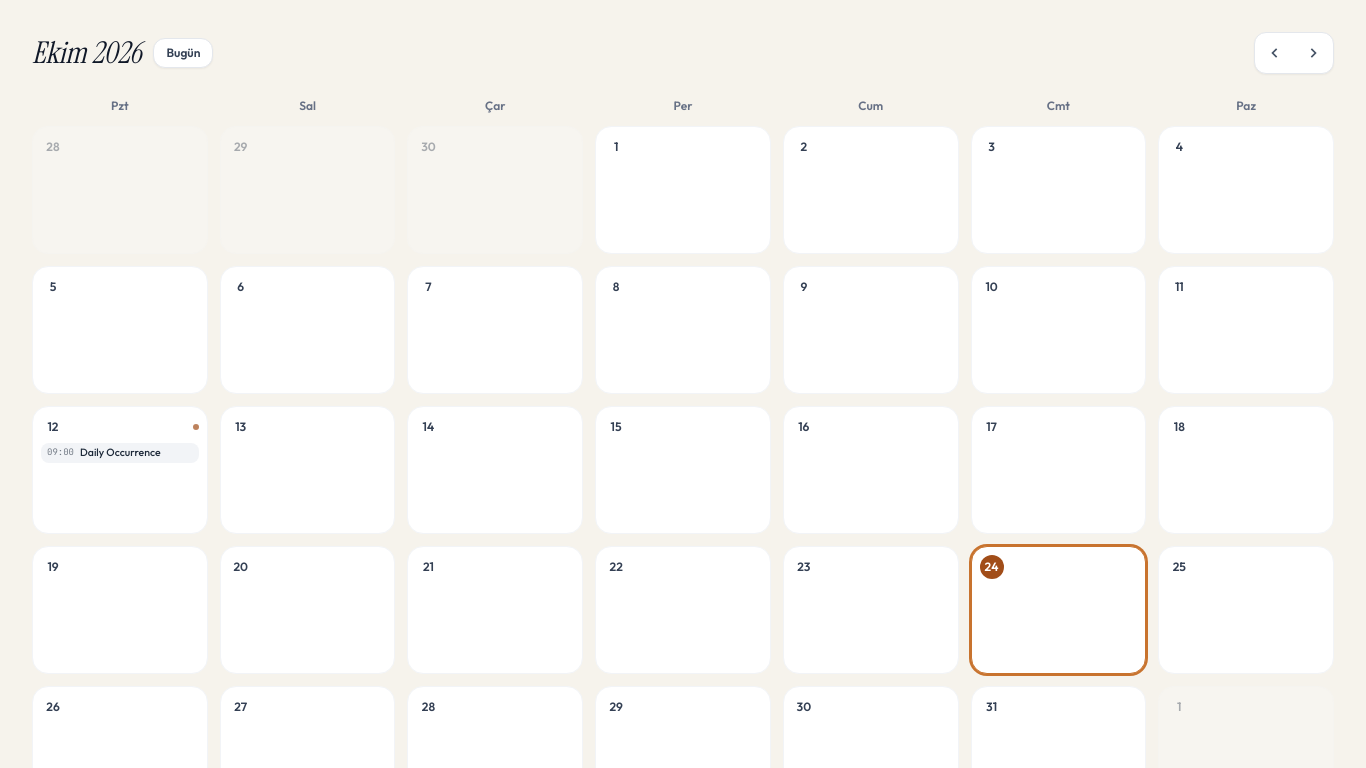
Scenario: MonthPage › hides delete button for occursOn rows and displays explanatory label
Click the cell with test id "cell-2026-10-12" at [120, 470], box [32,406,208,534]
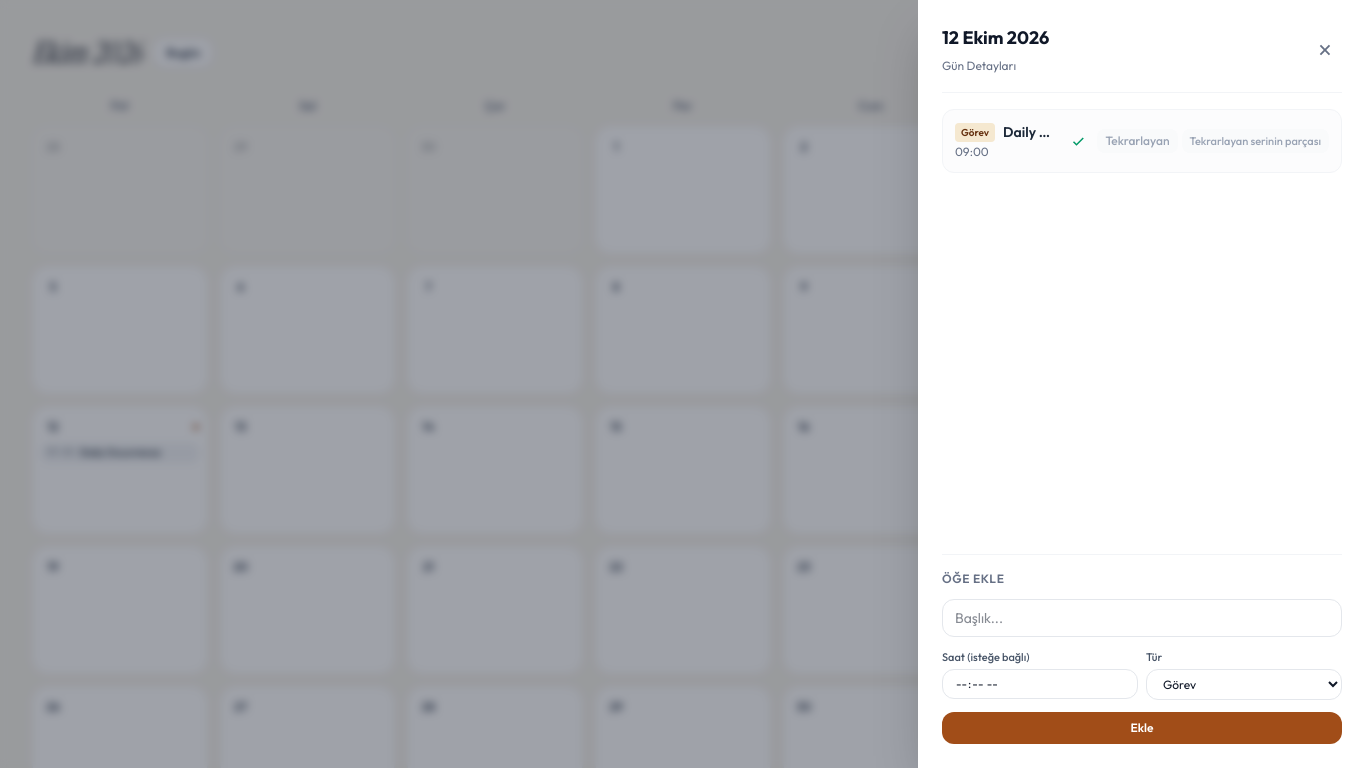
Expected: the element with test id "day-panel" is shown
Expected: the text "Tekrarlayan serinin parçası" is shown, [1182,129,1329,153]
